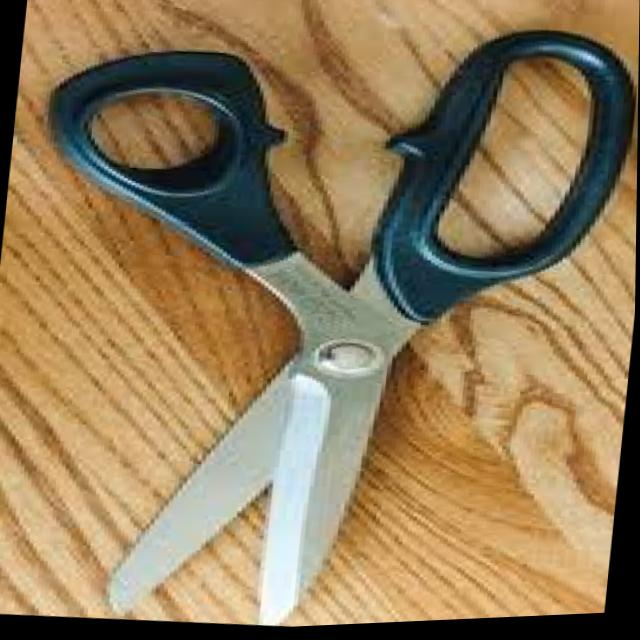scissor: (3, 0, 640, 640)
